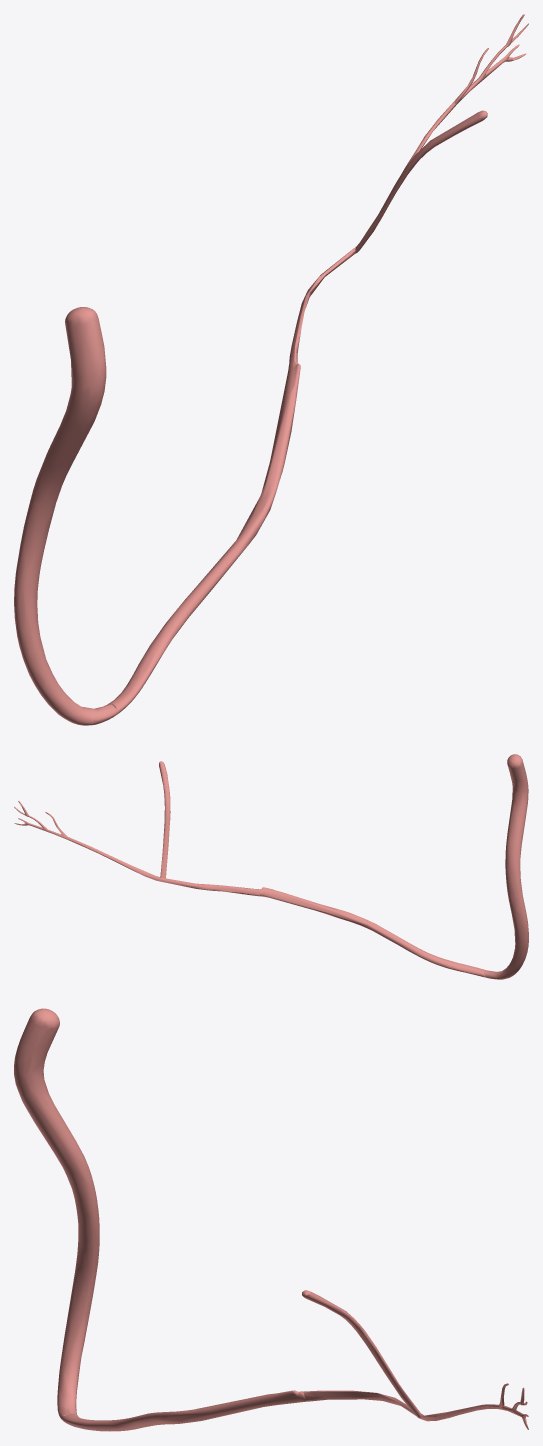
Rendered from pancreatic-branches.glb.
3 renders of one model, top to bottom at view 1: azimuth 30°, elevation 25°; view 2: azimuth 150°, elevation 25°; view 3: azimuth 270°, elevation 25°, orthographic. The views are drawn at different scales.
Parts seen in each view (by area): view 1: VMRA_PANC_FJ3430, VMRA_PANC_FJ3444, VMRA_PANC_FJ3419, VMRA_PANC_FJ3433; view 2: VMRA_PANC_FJ3430, VMRA_PANC_FJ3444, VMRA_PANC_FJ3419, VMRA_PANC_FJ3433; view 3: VMRA_PANC_FJ3430, VMRA_PANC_FJ3444, VMRA_PANC_FJ3419, VMRA_PANC_FJ3433.
Boxes of the visible parts, x1,y1,x2,y2 form: VMRA_PANC_FJ3430: [14, 307, 116, 725]; VMRA_PANC_FJ3444: [107, 361, 300, 715]; VMRA_PANC_FJ3419: [289, 14, 528, 364]; VMRA_PANC_FJ3433: [355, 110, 487, 253]; VMRA_PANC_FJ3430: [484, 754, 528, 979]; VMRA_PANC_FJ3444: [259, 887, 485, 977]; VMRA_PANC_FJ3419: [14, 801, 260, 896]; VMRA_PANC_FJ3433: [159, 761, 170, 878]; VMRA_PANC_FJ3430: [14, 1008, 99, 1419]; VMRA_PANC_FJ3444: [61, 1390, 307, 1431]; VMRA_PANC_FJ3419: [302, 1383, 528, 1429]; VMRA_PANC_FJ3433: [302, 1290, 420, 1418].
Size of the model in its own units: 0.0532 by 0.0289 by 0.0341.
